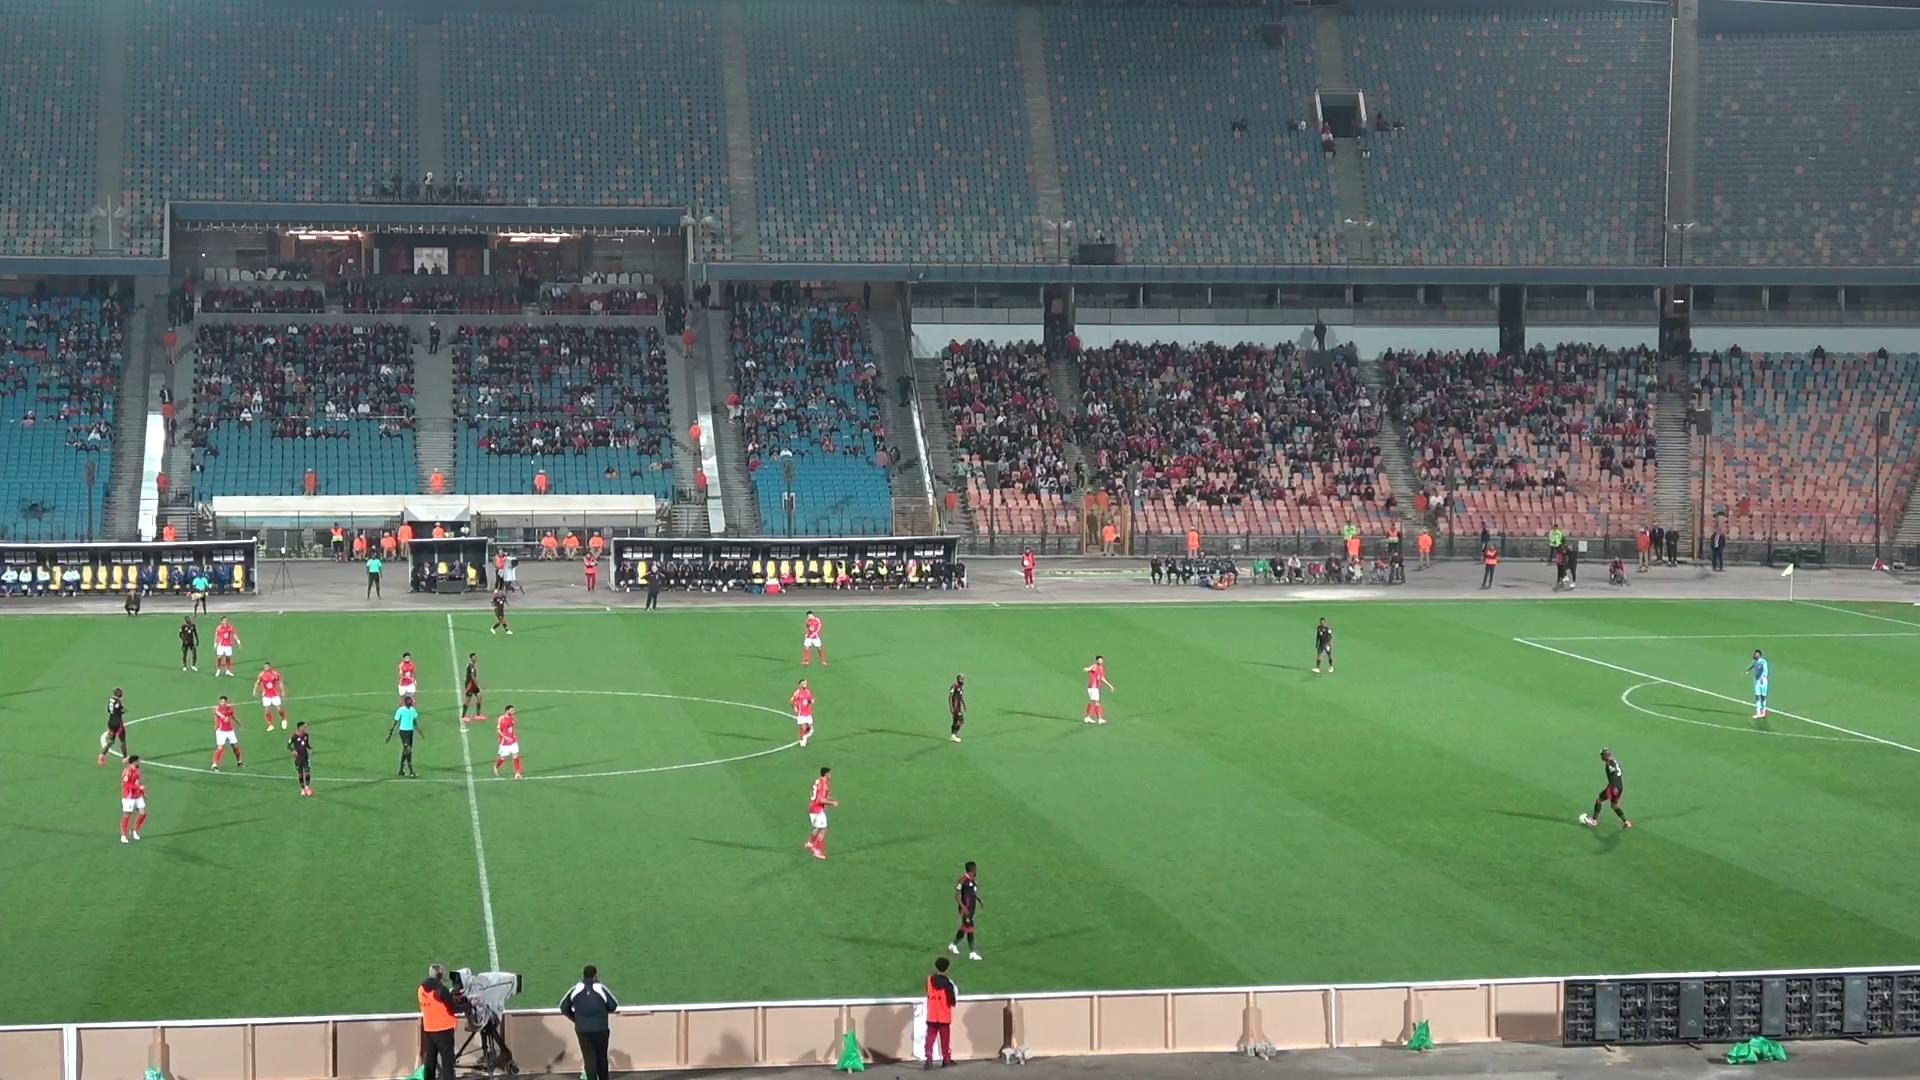Ball: (1578, 811, 1592, 825)
GK2: (1745, 647, 1771, 731)
Refree: (386, 696, 419, 777)
Team1: (804, 767, 837, 858), (119, 756, 148, 843), (210, 695, 243, 770), (1081, 655, 1116, 724), (255, 662, 289, 728), (495, 705, 522, 779), (214, 617, 241, 676), (800, 612, 828, 665), (397, 654, 418, 707)
Team2: (1588, 744, 1633, 824), (947, 862, 982, 960), (99, 688, 131, 764), (287, 723, 313, 796), (460, 653, 484, 723), (1311, 617, 1333, 673), (948, 675, 967, 741), (491, 585, 510, 632)
